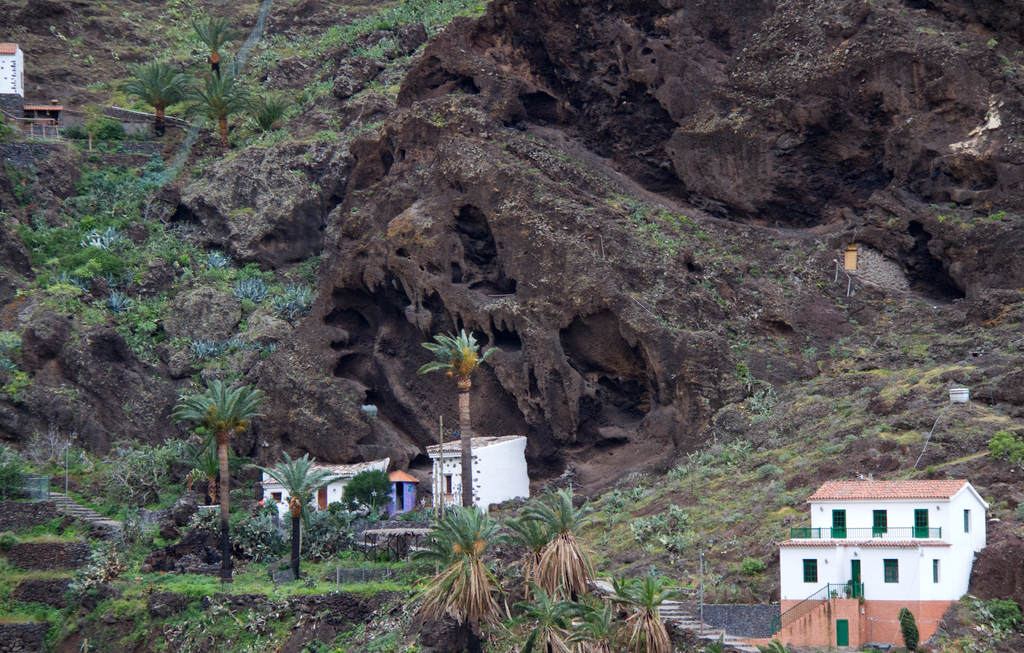Tree: (417, 486, 686, 653), (169, 386, 271, 580), (414, 329, 499, 503), (251, 450, 346, 580), (115, 58, 194, 125), (187, 68, 253, 146), (190, 15, 242, 86)
